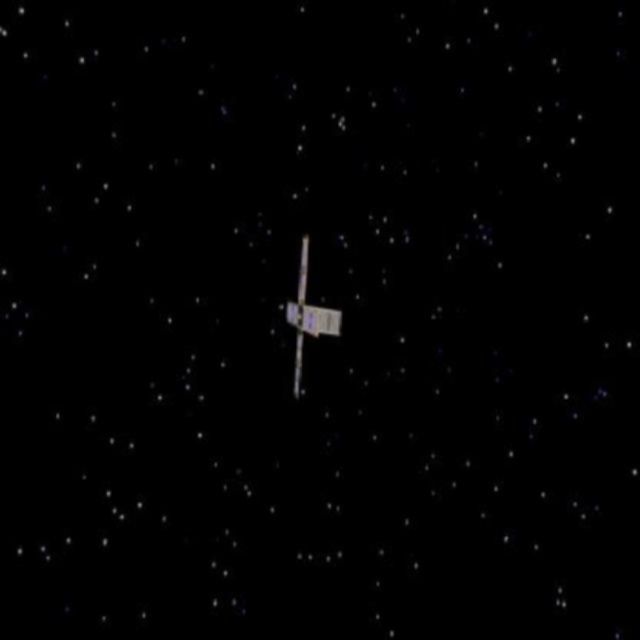medium_debris: (267, 223, 351, 405)
